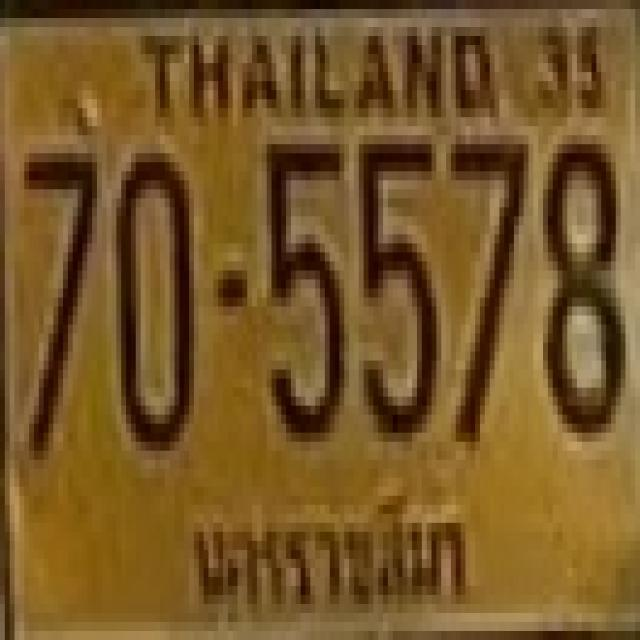0: (112, 144, 189, 442)
5: (262, 135, 339, 433), (354, 135, 431, 433)
7: (446, 131, 524, 437), (20, 144, 92, 451)
8: (541, 135, 618, 424)
NMA: (179, 475, 478, 627)
